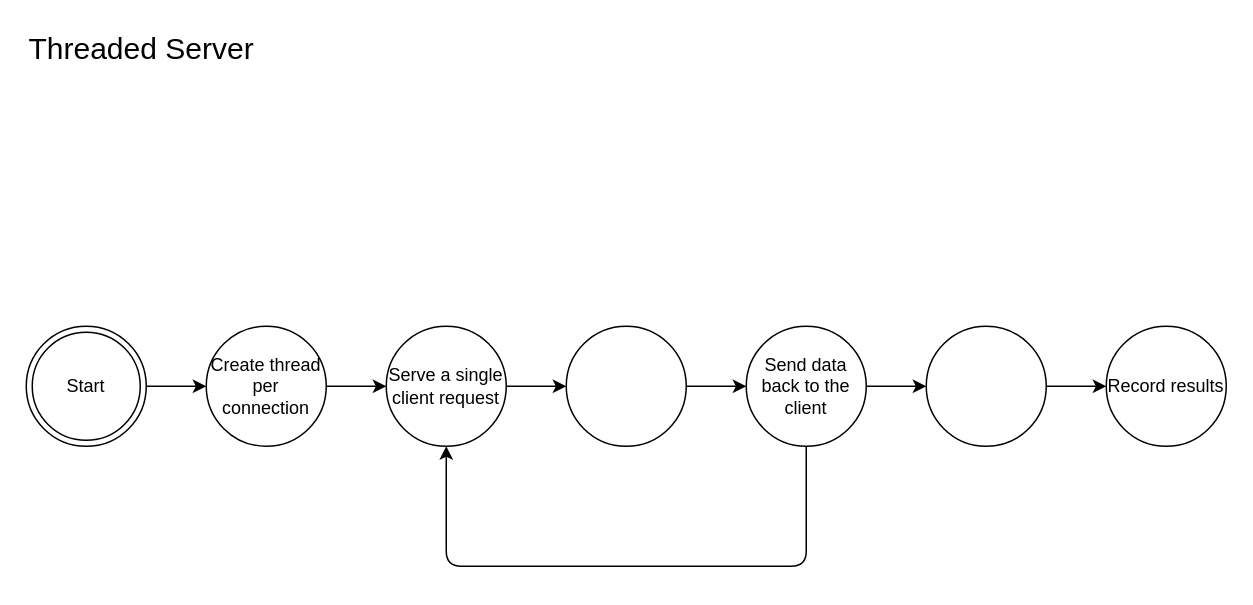
This 1253x605 diagram has some shape labels left out. Here are the shapes that lost their labels. From the top down, the box of each, then its label:
(565, 325, 686, 446): Read data from the client
(925, 325, 1046, 446): Read final data to know that msg has ended
